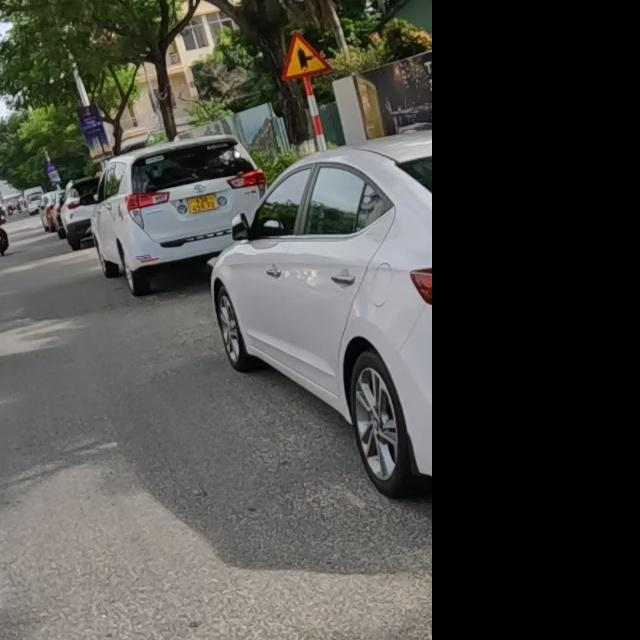license-plate: (187, 194, 219, 214)
